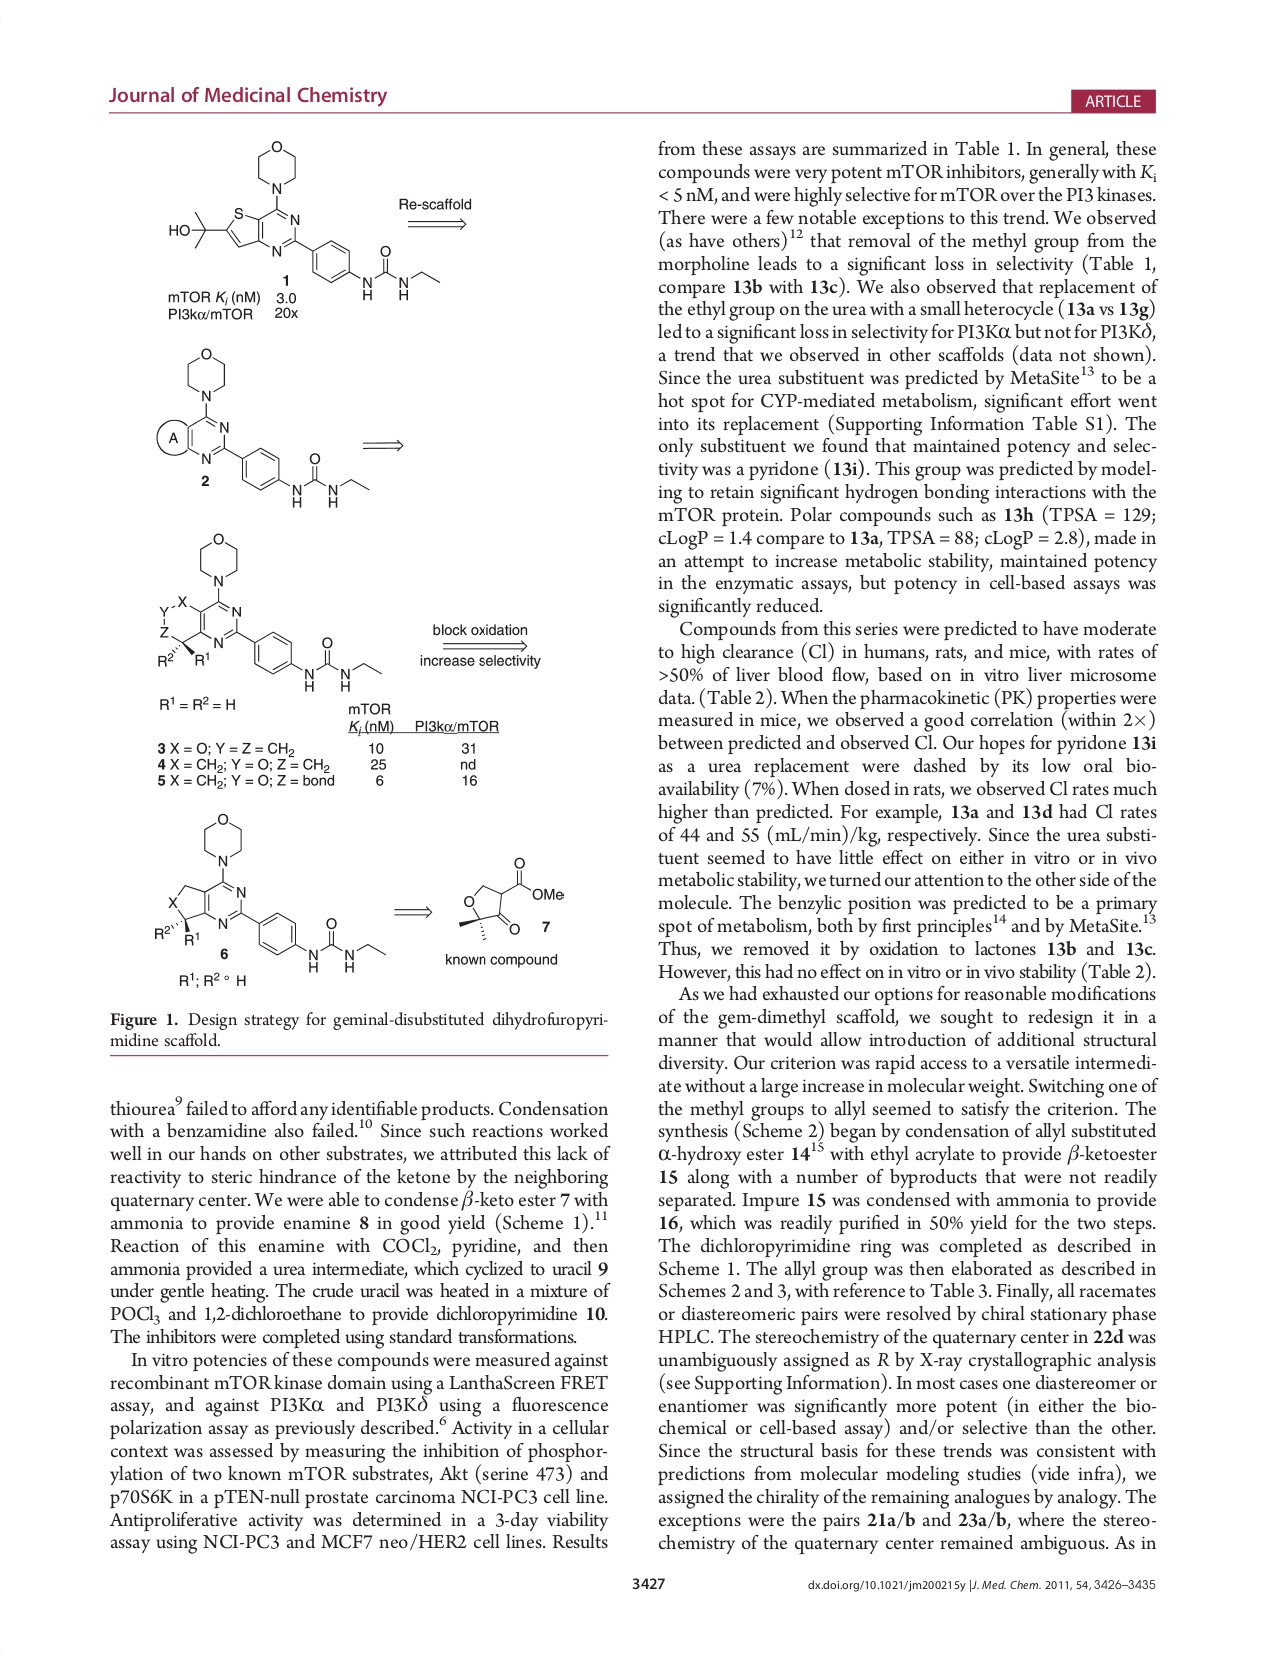exist_molecular: (164, 140, 442, 303), (150, 809, 387, 975), (154, 343, 376, 509), (156, 531, 383, 693), (453, 850, 568, 943)
